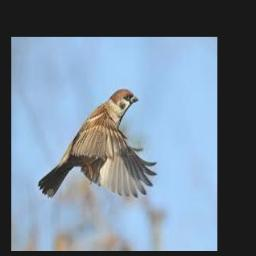Sparrow: (39, 89, 157, 199)
